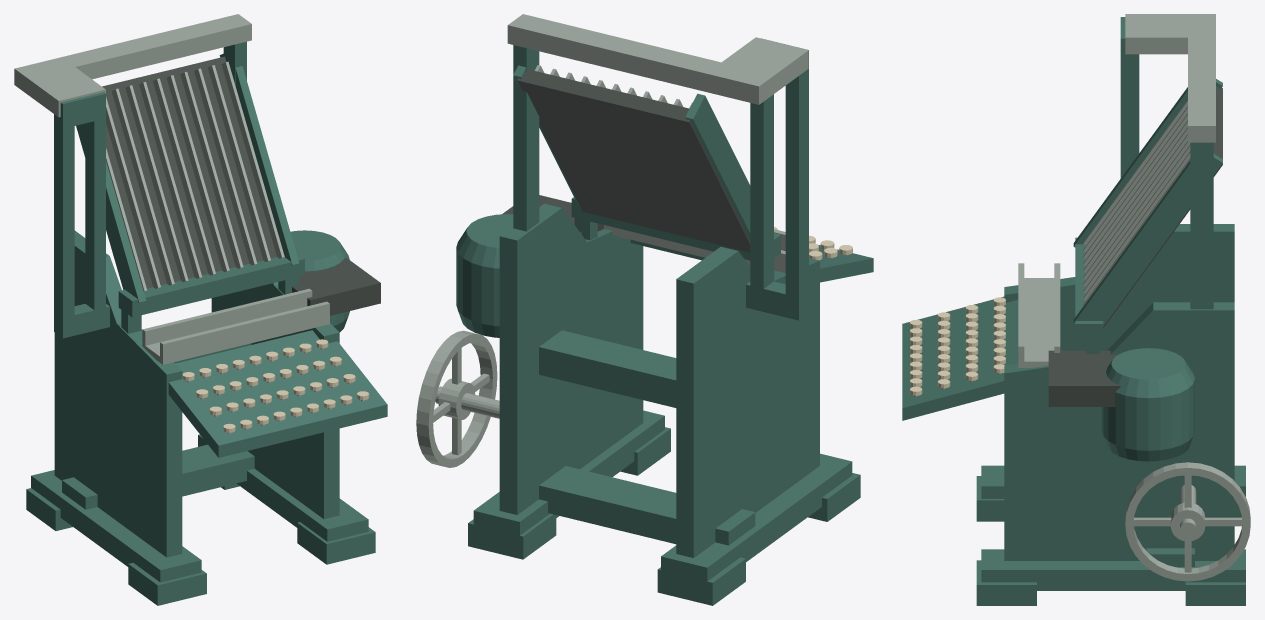
3 renders of one model, left to right at view 1: azimuth 30°, elevation 25°; view 2: azimuth 150°, elevation 25°; view 3: azimuth 270°, elevation 25°, orthographic. The views are drawn at different scales.
Visible parts, largest first — view 1: WholeRisingSideCastingLeft, WholeLinecasterGroundBed, WholeSlopingMatrixStoreBack, WholeLowInclinedKeyDeck, WholeOpenReturnElevatorFrame, WholeBentTopDistributionRail, WholeOpenFrontComposingChannel, WholeRisingSideCastingRight, WholeMagazineLowerMount, WholeSideMoldCaseExterior, WholeMagazineSideCheekRight, WholeMagazineSideCheekLeft (+13 smaller); view 2: WholeRisingSideCastingLeft, WholeRisingSideCastingRight, WholeLinecasterGroundBed, WholeSlopingMatrixStoreBack, WholeOpenReturnElevatorFrame, WholeBentTopDistributionRail, WholeMainCastingCrossTie, WholeSideCastingHousing, WholeDriveWheelRim, WholeRightDistributorStandard, WholeMagazineSideCheekLeft, WholeMagazineLowerMount (+4 smaller); view 3: WholeRisingSideCastingRight, WholeLinecasterGroundBed, WholeSideCastingHousing, WholeLowInclinedKeyDeck, WholeRisingSideCastingLeft, WholeBentTopDistributionRail, WholeMagazineSideCheekRight, WholeDriveWheelRim, WholeRightDistributorStandard, WholeOpenFrontComposingChannel, WholeSideMoldCaseExterior, WholeOpenReturnElevatorFrame (+13 smaller).
Boxes of the visible parts, x1=… form: WholeRisingSideCastingLeft: x1=54, y1=230, x2=182, y2=557; WholeLinecasterGroundBed: x1=26, y1=434, x2=375, y2=605; WholeSlopingMatrixStoreBack: x1=102, y1=56, x2=276, y2=288; WholeLowInclinedKeyDeck: x1=168, y1=330, x2=387, y2=457; WholeOpenReturnElevatorFrame: x1=54, y1=92, x2=109, y2=338; WholeBentTopDistributionRail: x1=14, y1=14, x2=251, y2=117; WholeOpenFrontComposingChannel: x1=142, y1=288, x2=329, y2=364; WholeRisingSideCastingRight: x1=211, y1=282, x2=339, y2=518; WholeMagazineLowerMount: x1=118, y1=253, x2=304, y2=333; WholeSideMoldCaseExterior: x1=292, y1=257, x2=380, y2=315; WholeMagazineSideCheekRight: x1=219, y1=53, x2=299, y2=265; WholeMagazineSideCheekLeft: x1=76, y1=123, x2=146, y2=302; WholeRisingSideCastingLeft: x1=676, y1=247, x2=819, y2=557; WholeRisingSideCastingRight: x1=499, y1=203, x2=643, y2=514; WholeLinecasterGroundBed: x1=468, y1=410, x2=860, y2=605; WholeSlopingMatrixStoreBack: x1=517, y1=69, x2=750, y2=252; WholeOpenReturnElevatorFrame: x1=746, y1=38, x2=808, y2=320; WholeBentTopDistributionRail: x1=507, y1=14, x2=808, y2=104; WholeMainCastingCrossTie: x1=539, y1=330, x2=676, y2=407; WholeSideCastingHousing: x1=456, y1=214, x2=513, y2=337; WholeDriveWheelRim: x1=416, y1=330, x2=497, y2=467; WholeRightDistributorStandard: x1=513, y1=45, x2=539, y2=231; WholeMagazineSideCheekLeft: x1=685, y1=93, x2=750, y2=239; WholeMagazineLowerMount: x1=571, y1=197, x2=780, y2=279; WholeRisingSideCastingRight: x1=1004, y1=302, x2=1234, y2=560; WholeLinecasterGroundBed: x1=976, y1=465, x2=1245, y2=605; WholeSideCastingHousing: x1=1102, y1=348, x2=1194, y2=461; WholeLowInclinedKeyDeck: x1=902, y1=296, x2=1018, y2=420; WholeRisingSideCastingLeft: x1=1004, y1=224, x2=1234, y2=350; WholeBentTopDistributionRail: x1=1125, y1=14, x2=1215, y2=142; WholeMagazineSideCheekRight: x1=1073, y1=154, x2=1222, y2=325; WholeDriveWheelRim: x1=1125, y1=462, x2=1250, y2=581; WholeRightDistributorStandard: x1=1190, y1=142, x2=1213, y2=309; WholeOpenFrontComposingChannel: x1=1018, y1=263, x2=1060, y2=367; WholeSideMoldCaseExterior: x1=1048, y1=350, x2=1120, y2=406; WholeOpenReturnElevatorFrame: x1=1120, y1=17, x2=1139, y2=178.
Size of the model in its own units: 1.52 by 2.23 by 1.5.
